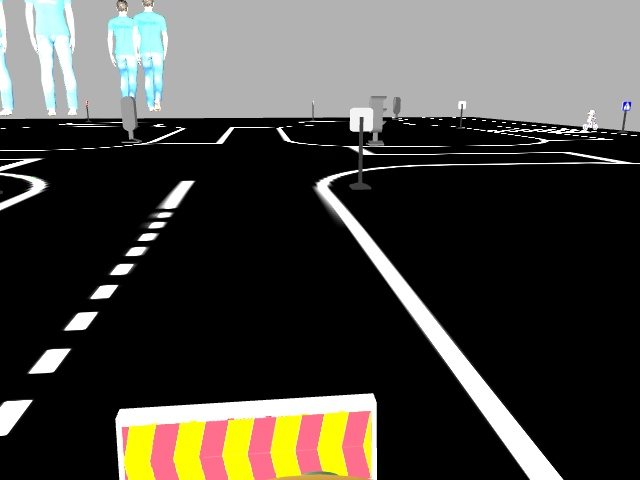ClosedRoadStand: (119, 407, 375, 478)
